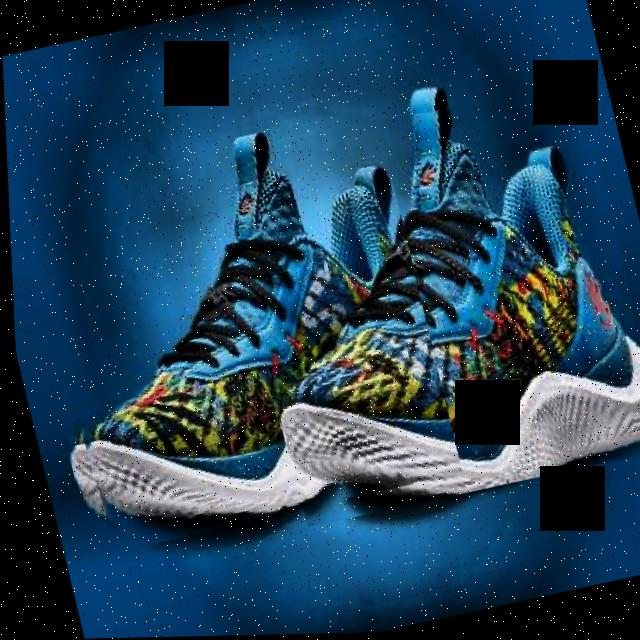shoe: (195, 68, 640, 534), (4, 108, 462, 559)
